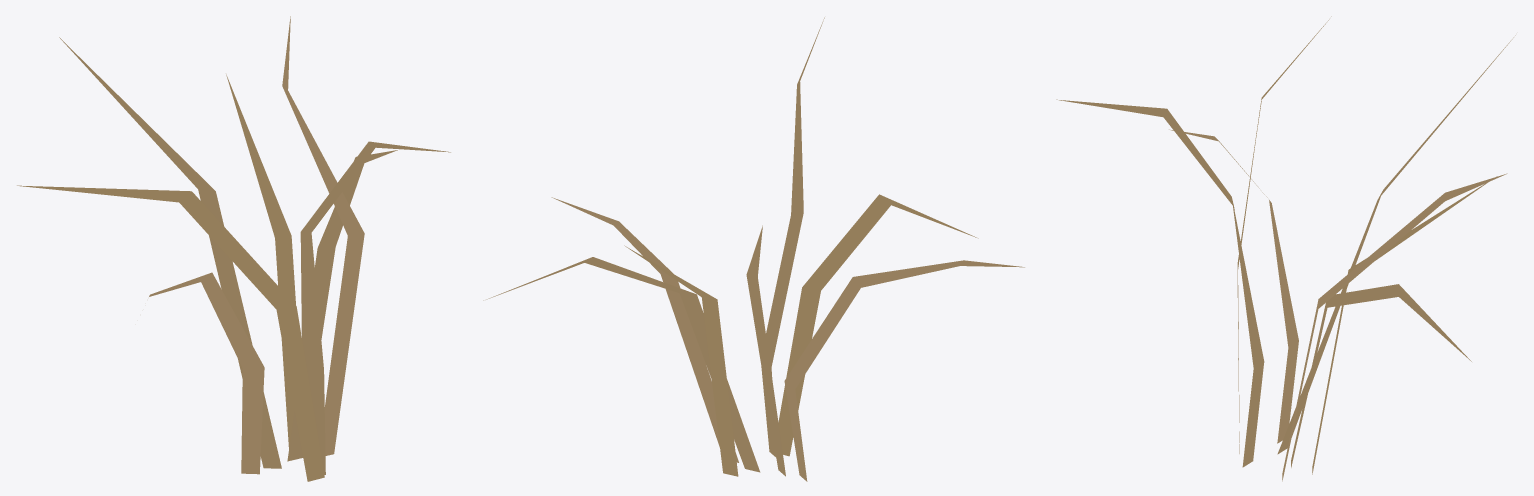
File: Grass_f_TwoS_03.fbx
3 views of the same model, side by side, from view 1: azimuth 30°, elevation 25°; view 2: azimuth 150°, elevation 25°; view 3: azimuth 270°, elevation 25° (orthographic). The views are drawn at different scales.
Parts seen in each view (by area): view 1: Grass_f_TwoS_03; view 2: Grass_f_TwoS_03; view 3: Grass_f_TwoS_03.
Boxes of the visible parts, bbox=[...] form: Grass_f_TwoS_03: bbox=[17, 16, 450, 481]; Grass_f_TwoS_03: bbox=[483, 17, 1024, 481]; Grass_f_TwoS_03: bbox=[1056, 16, 1515, 481].
Size of the model in its own units: 0.457 by 0.3692 by 0.4026.
